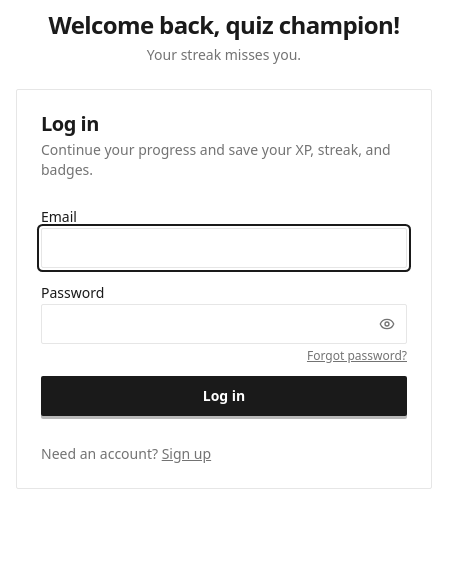
Test: SignInForm › explains rate limiting instead of implying a typo
Type "player@example.com" into the field labelled "Email".
click(224, 248); type("player@example.com")  # box [41,228,407,268]
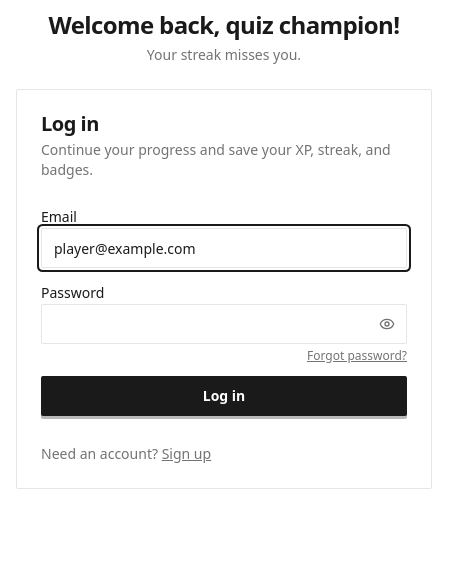
Type "Password123!" into the password field labelled "Password".
click(224, 324); type("Password123!")  # box [41,304,407,344]
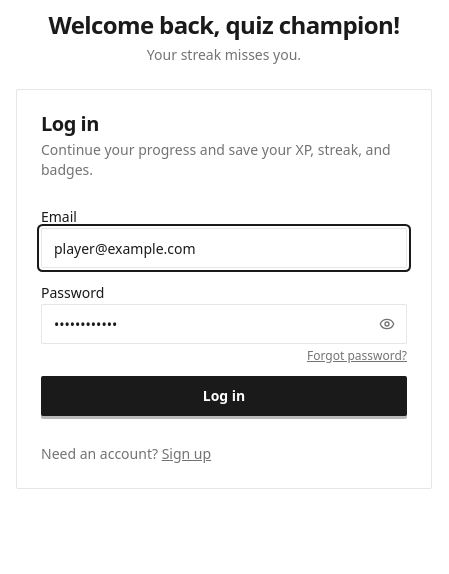
Click the button "Log in".
click(224, 396)  # box [41,376,407,416]
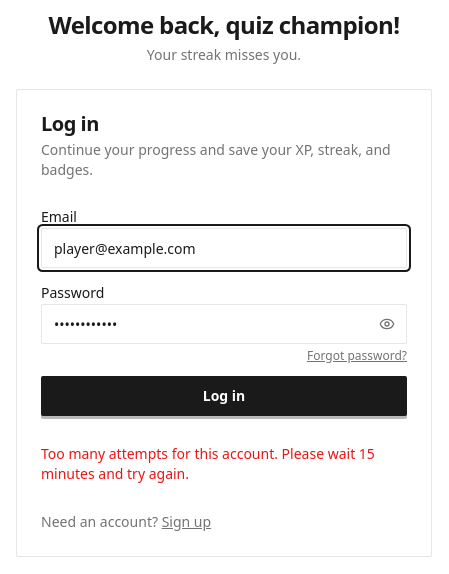
Expected: the message shows "Too many attempts", [41,444,375,483]
